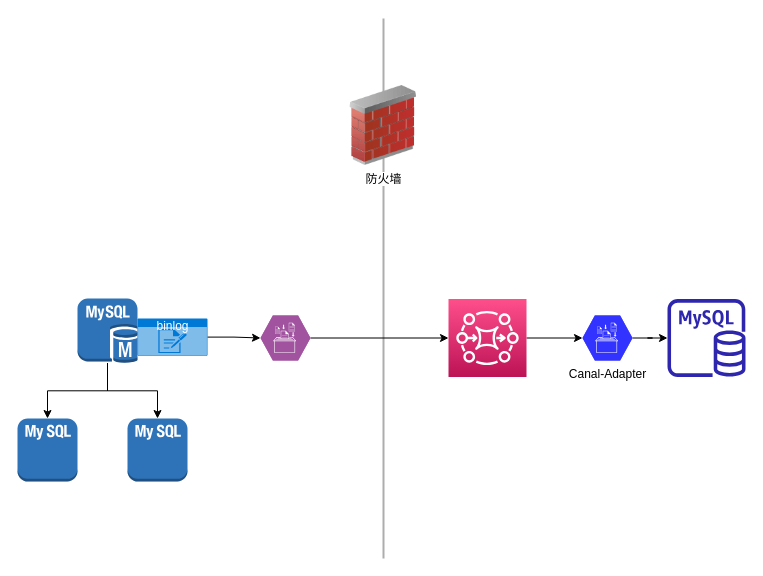
This 763x576 diagram has some shape labels left out. The shapes that lost their labels are listed below. From the top down, each one's centre as x and y in pixels, then its label:
At point 285,337: "Canal-Deployer".
At point 487,337: "RocketMQ".
